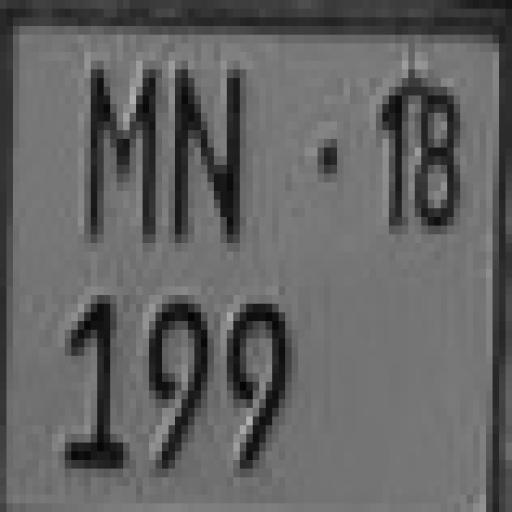1: (64, 285, 122, 474)
9: (220, 297, 300, 481), (144, 284, 206, 472)
M: (84, 58, 160, 237)
N: (166, 58, 254, 239)
